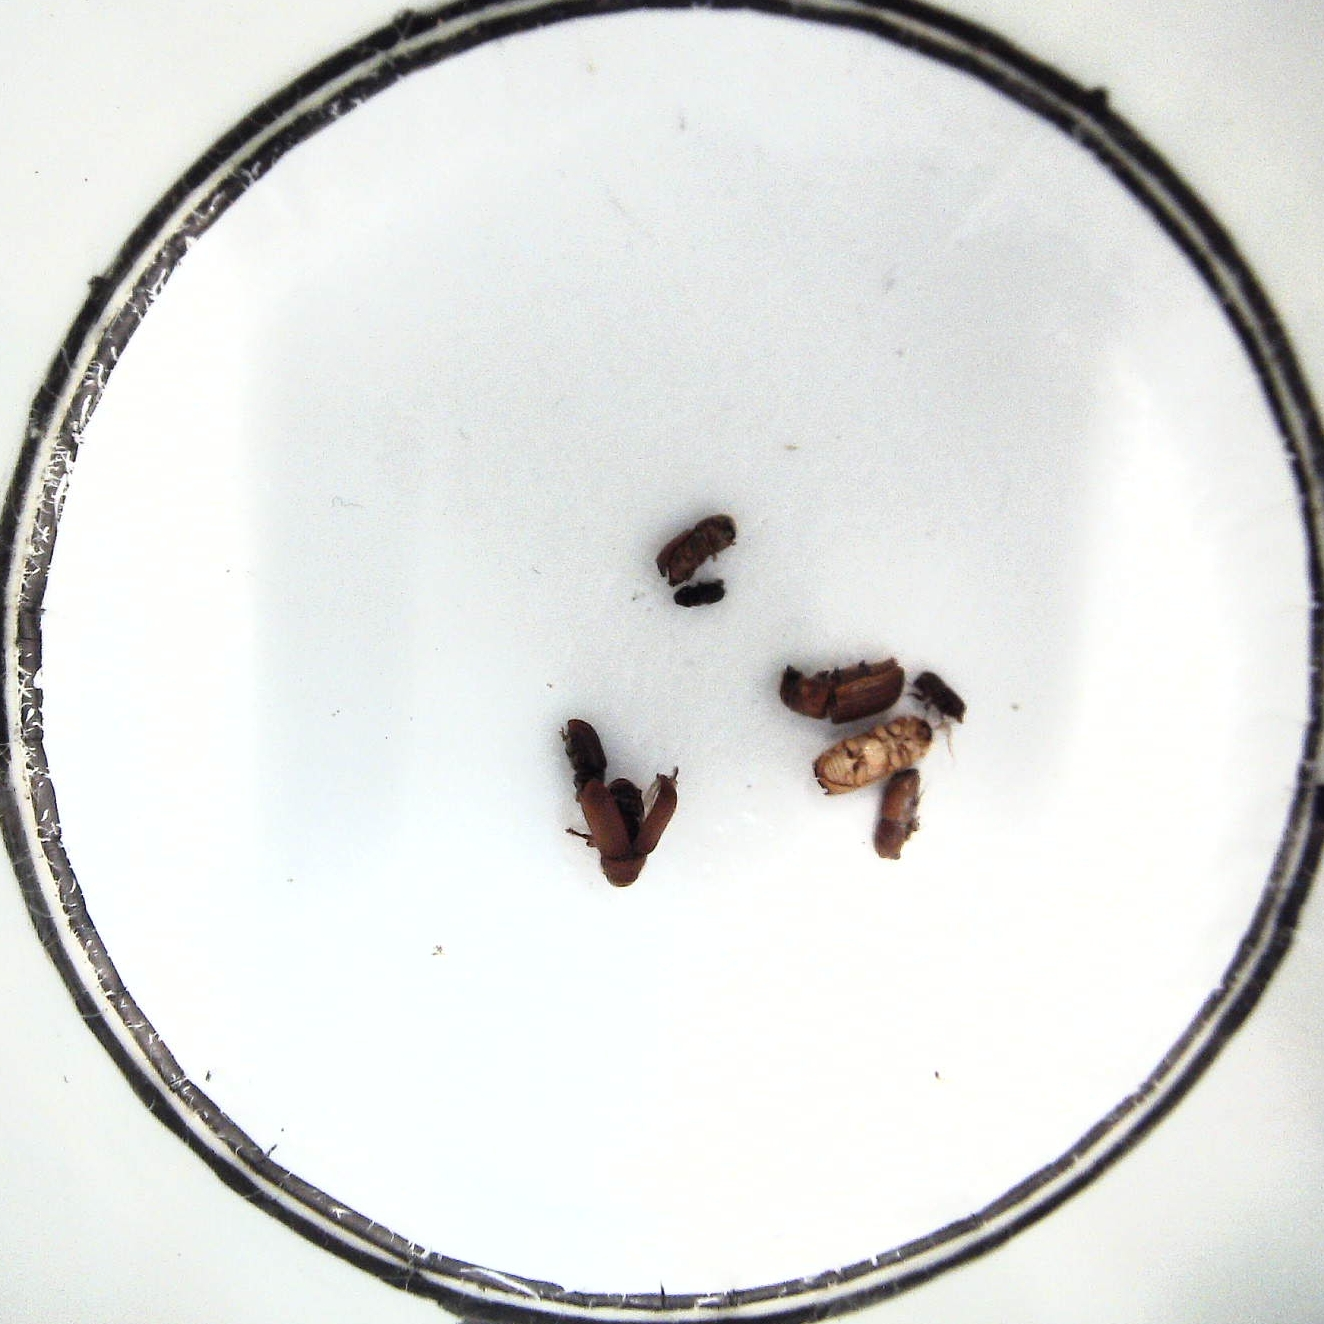Boerner: (815, 715, 934, 797)
Leconte: (578, 777, 679, 889), (774, 658, 907, 725)
Linnaeus: (656, 513, 740, 588), (871, 770, 923, 864)
acuminatus: (915, 669, 968, 729)
armandi: (554, 715, 609, 801)
coleoptera: (672, 577, 727, 611)
